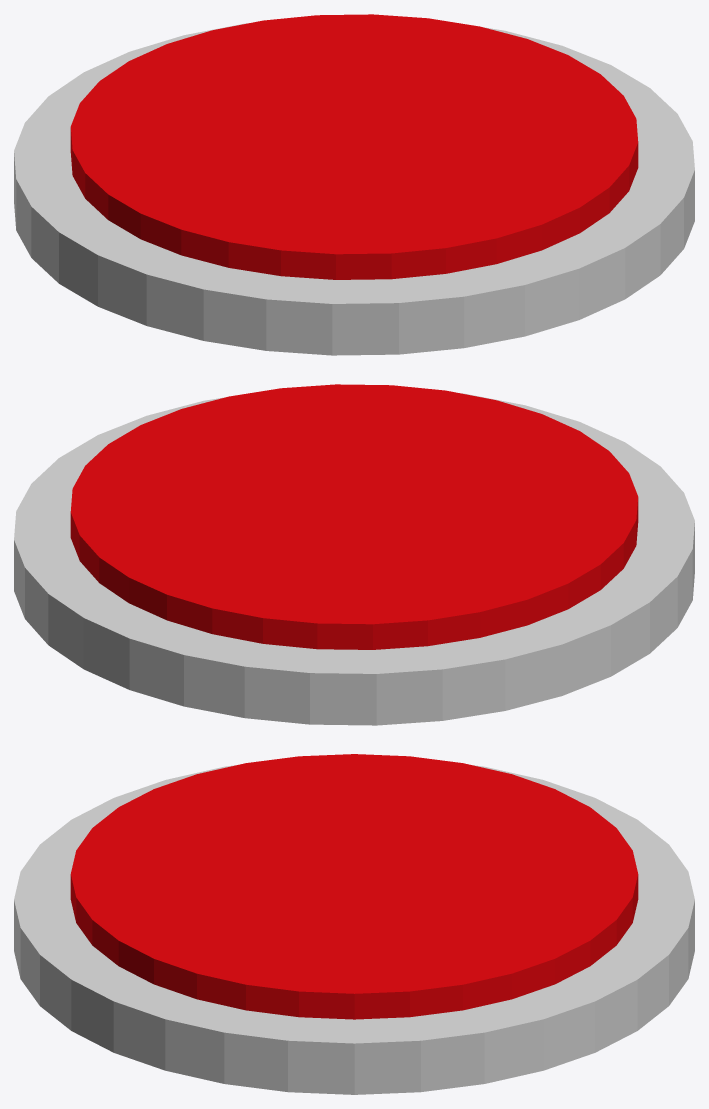
File: PressurePlate.fbx
The picture shows the model from 3 angles, top to bottom: view 1: azimuth 30°, elevation 25°; view 2: azimuth 150°, elevation 25°; view 3: azimuth 270°, elevation 25°; orthographic projection.
Visible parts, largest first — view 1: Cylinder, Cylinder.001; view 2: Cylinder, Cylinder.001; view 3: Cylinder, Cylinder.001.
Boxes of the visible parts, left/top/right/bottom form: Cylinder: left=70, top=14, right=638, bottom=279; Cylinder.001: left=14, top=23, right=694, bottom=355; Cylinder: left=70, top=384, right=638, bottom=649; Cylinder.001: left=14, top=393, right=694, bottom=725; Cylinder: left=70, top=754, right=638, bottom=1019; Cylinder.001: left=14, top=765, right=694, bottom=1094.
Bounding box in the file's own units: 240 × 30 × 240.
